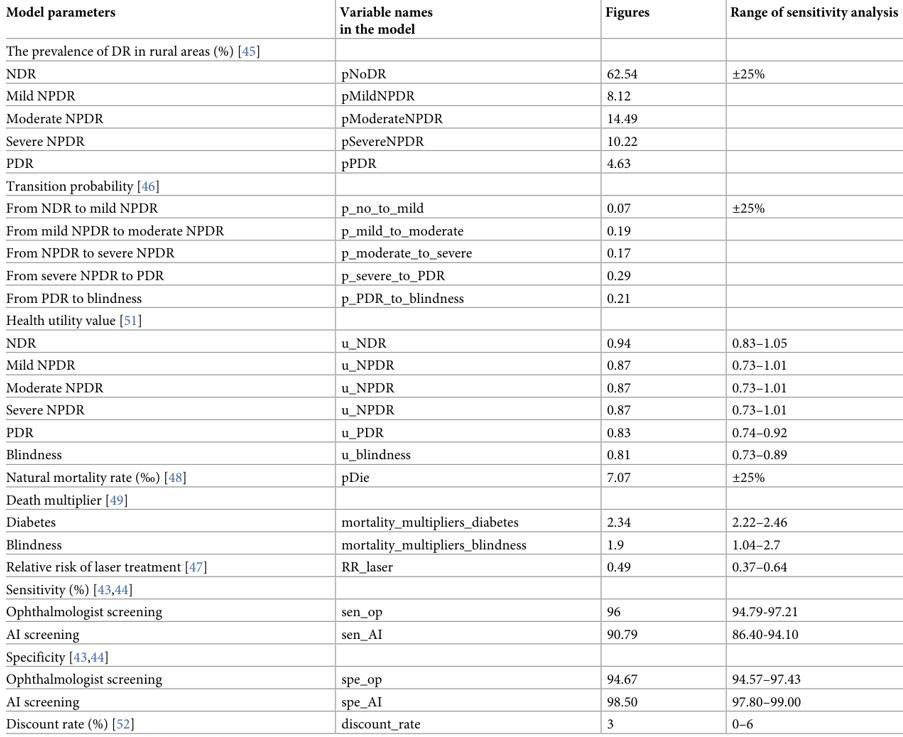table: (5, 4, 897, 731)
table column: (281, 4, 565, 731), (5, 4, 281, 731), (689, 4, 897, 731), (565, 4, 689, 731)
table column header: (5, 4, 897, 40)
table projected row header: (5, 578, 897, 601), (5, 645, 897, 668), (5, 174, 897, 196), (5, 309, 897, 331), (5, 489, 897, 511), (5, 40, 897, 61)
table row: (5, 4, 897, 40), (5, 61, 897, 86), (5, 196, 897, 220), (5, 465, 897, 489), (5, 107, 897, 130), (5, 264, 897, 287), (5, 331, 897, 354), (5, 376, 897, 399), (5, 421, 897, 444), (5, 533, 897, 556), (5, 578, 897, 601), (5, 645, 897, 668), (5, 690, 897, 713), (5, 130, 897, 152), (5, 152, 897, 174), (5, 174, 897, 196), (5, 220, 897, 242), (5, 242, 897, 264), (5, 287, 897, 309), (5, 309, 897, 331), (5, 354, 897, 376), (5, 399, 897, 421), (5, 489, 897, 511), (5, 511, 897, 533), (5, 556, 897, 578), (5, 601, 897, 623), (5, 623, 897, 645), (5, 668, 897, 690), (5, 40, 897, 61), (5, 86, 897, 107), (5, 444, 897, 465), (5, 713, 897, 731)
